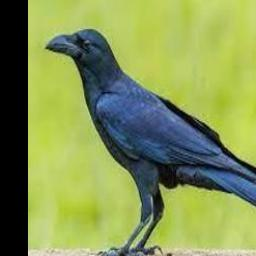Crow: (46, 28, 256, 256)
